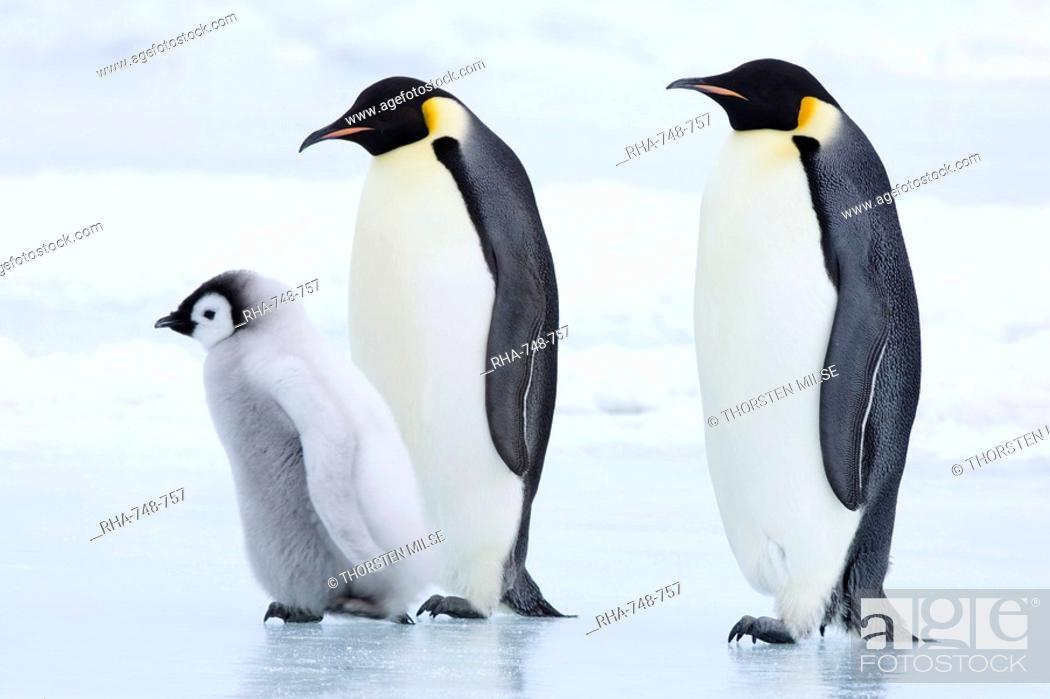emporer: (643, 49, 955, 676), (289, 69, 587, 635)
